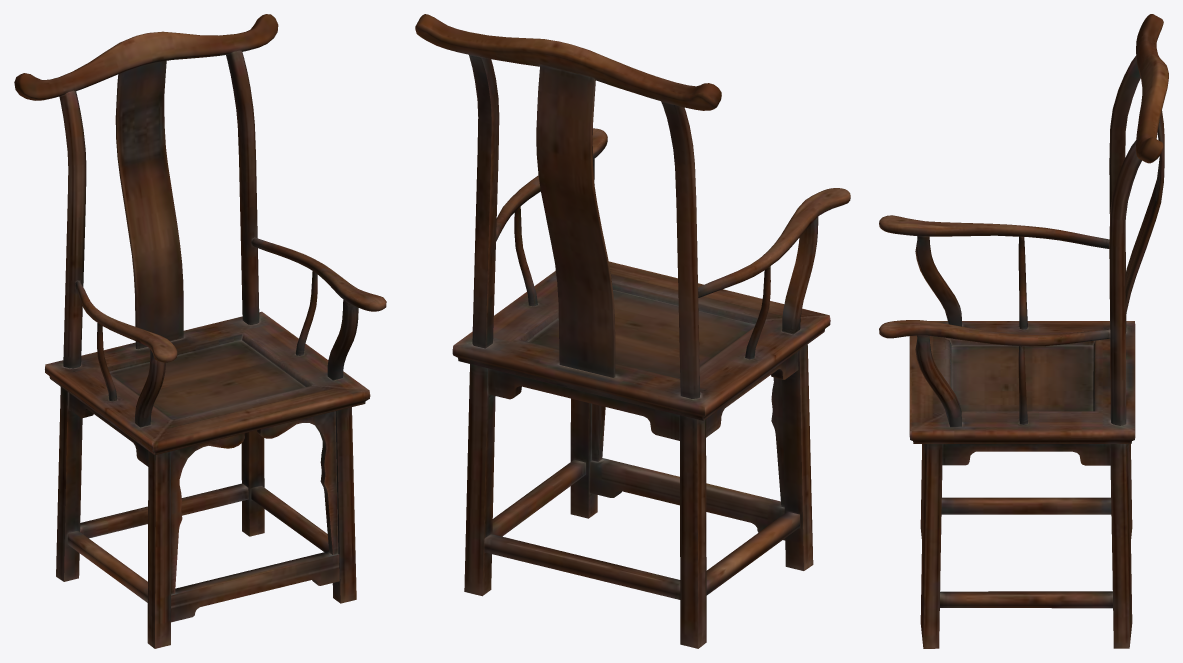
File: ph_chinese_armchair.glb
The picture shows the model from 3 angles, left to right: view 1: azimuth 30°, elevation 25°; view 2: azimuth 150°, elevation 25°; view 3: azimuth 270°, elevation 25°; orthographic projection. The views are drawn at different scales.
Visible parts, largest first — view 1: chinese_armchair; view 2: chinese_armchair; view 3: chinese_armchair.
Boxes of the visible parts, box(x1,y1,x2,y2) form: chinese_armchair: box(14, 14, 386, 648); chinese_armchair: box(415, 14, 850, 648); chinese_armchair: box(879, 14, 1168, 648).
Size of the model in its own units: 0.8483 by 1.59 by 0.7887.
Materials: 1 (1 with a texture image).
